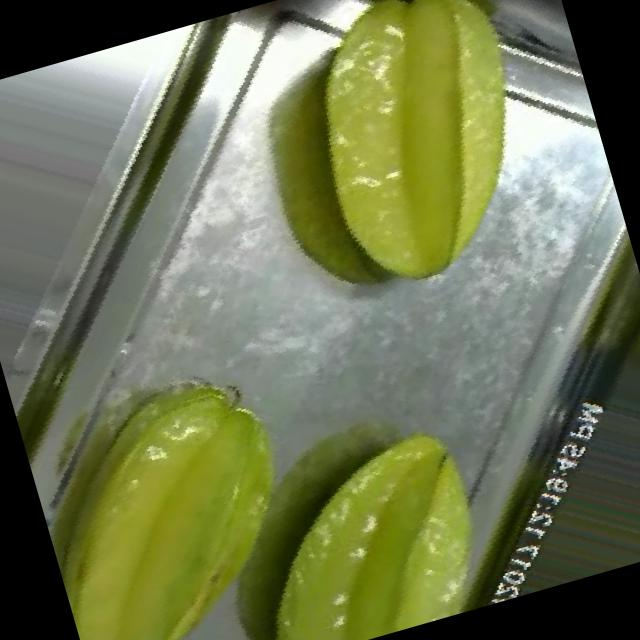fruit: (205, 0, 613, 354), (4, 299, 379, 640), (171, 351, 548, 640)
